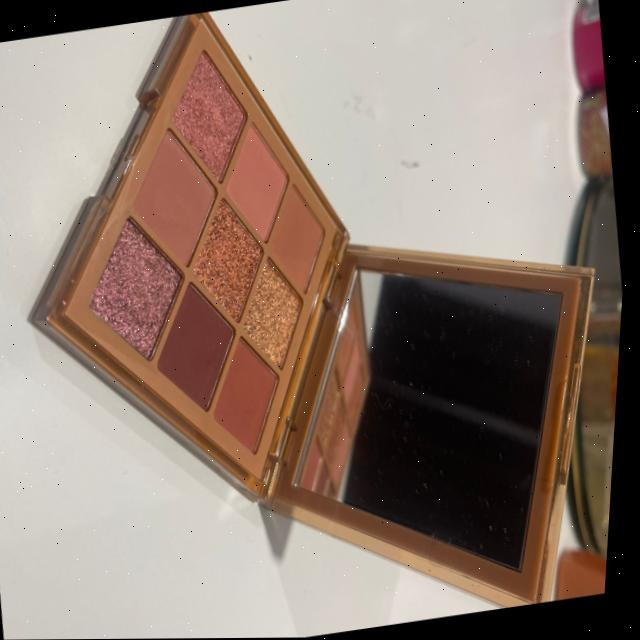eye shade: (0, 0, 418, 585)
